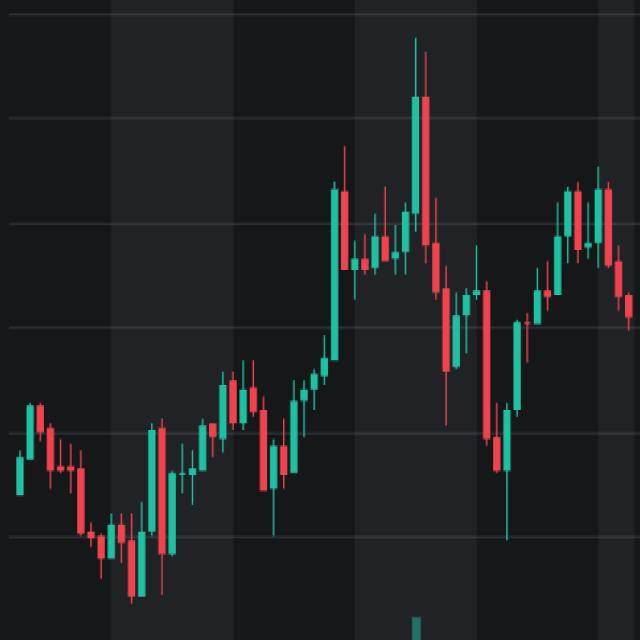Resistance-Emerging: (270, 91, 638, 522)
